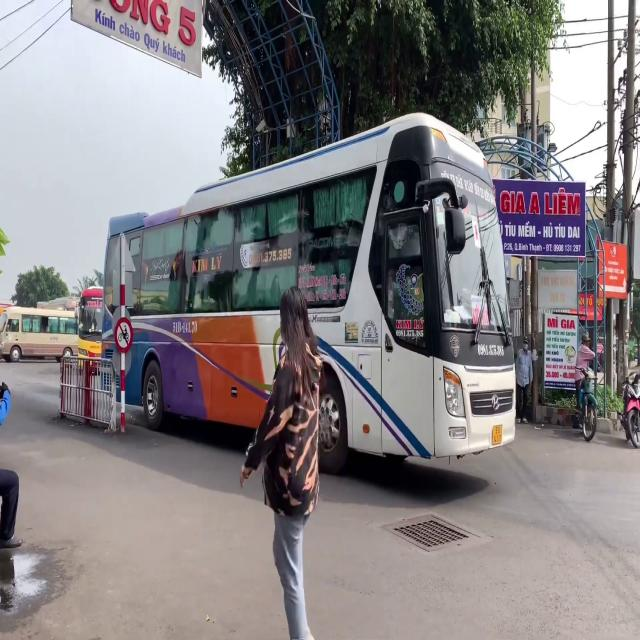bien_vang: (492, 425, 503, 445)
